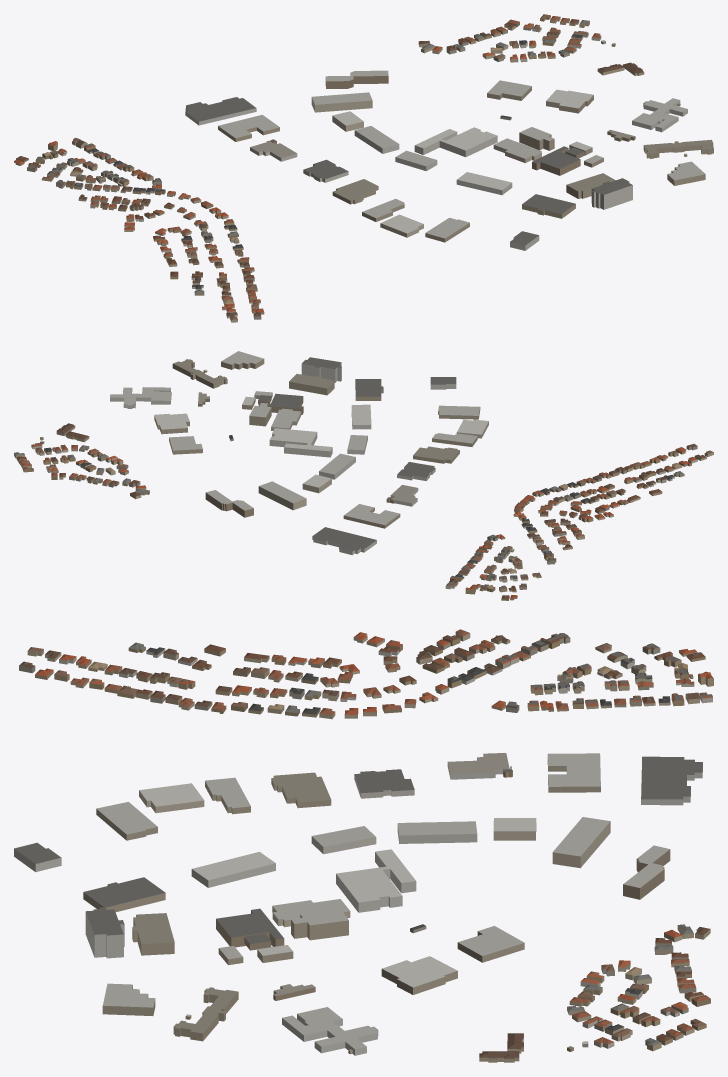
3 renders of one model, top to bottom at view 1: azimuth 30°, elevation 25°; view 2: azimuth 150°, elevation 25°; view 3: azimuth 270°, elevation 25°, orthographic. The views are drawn at different scales.
Parts seen in each view (by area): view 1: buildings_r7_c7_lod1; view 2: buildings_r7_c7_lod1; view 3: buildings_r7_c7_lod1.
Boxes of the visible parts, box(x1,y1,x2,y2) form: buildings_r7_c7_lod1: box(14, 14, 713, 322); buildings_r7_c7_lod1: box(14, 351, 713, 600); buildings_r7_c7_lod1: box(14, 629, 713, 1062).
Bounding box in the file's own units: 1142 × 45.18 × 806.
